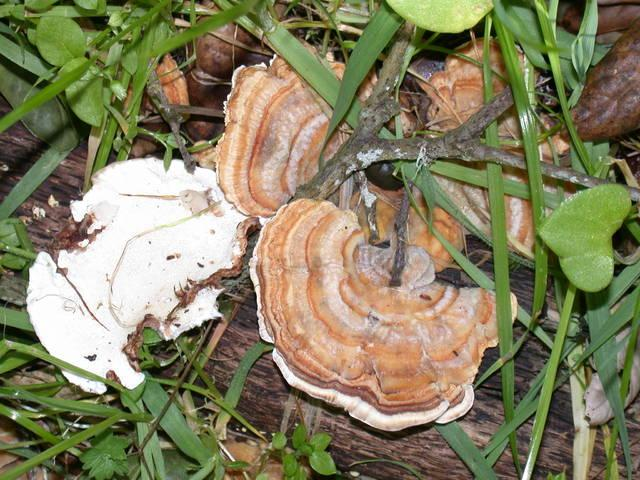poisonous_mushroom: (248, 191, 518, 432), (24, 154, 259, 395), (222, 49, 355, 205)
